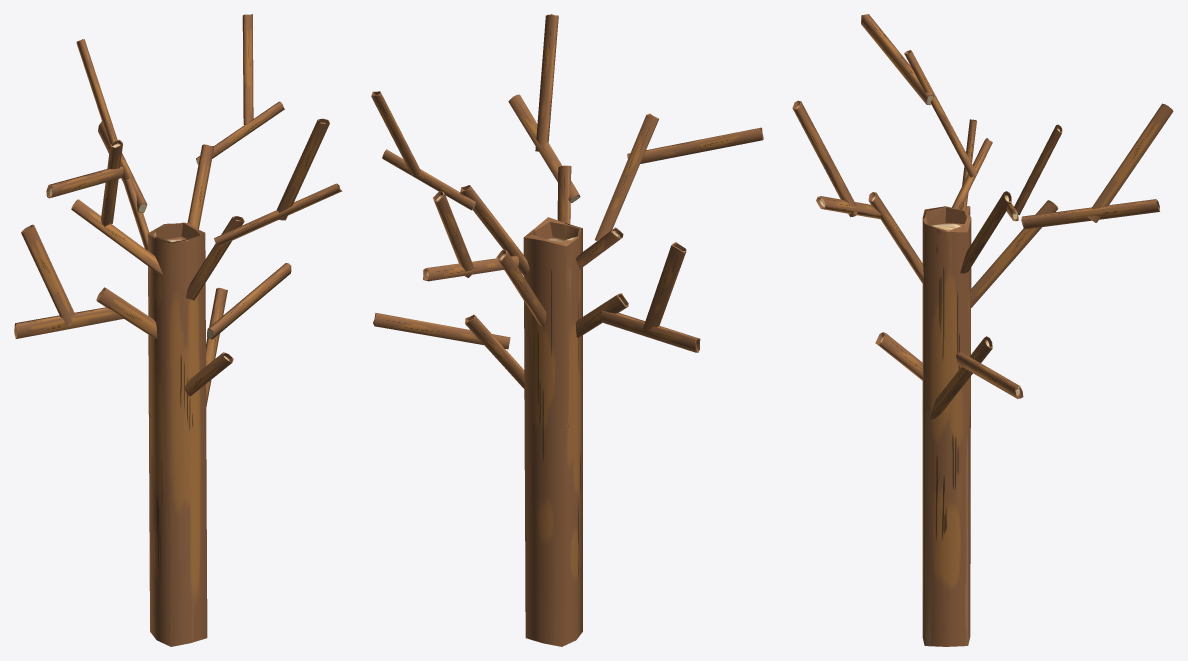
Rendered from Arvore4.fbx.
3 views of the same model, side by side, from view 1: azimuth 30°, elevation 25°; view 2: azimuth 150°, elevation 25°; view 3: azimuth 270°, elevation 25° (orthographic). The views are drawn at different scales.
Visible parts, largest first — view 1: ArvoreTronco, ArvoreTronco.005, ArvoreTronco.004, ArvoreTronco.015, ArvoreTronco.008, ArvoreTronco.014, ArvoreTronco.006, ArvoreTronco.011, ArvoreTronco.001, ArvoreTronco.007, ArvoreTronco.018, ArvoreTronco.012 (+7 smaller); view 2: ArvoreTronco, ArvoreTronco.009, ArvoreTronco.015, ArvoreTronco.013, ArvoreTronco.006, ArvoreTronco.004, ArvoreTronco.005, ArvoreTronco.007, ArvoreTronco.014, ArvoreTronco.002, ArvoreTronco.018, ArvoreTronco.016 (+6 smaller); view 3: ArvoreTronco, ArvoreTronco.017, ArvoreTronco.018, ArvoreTronco.016, ArvoreTronco.015, ArvoreTronco.013, ArvoreTronco.009, ArvoreTronco.002, ArvoreTronco.007, ArvoreTronco.012, ArvoreTronco.006, ArvoreTronco.011 (+3 smaller).
Boxes of the visible parts, bbox=[...] form: ArvoreTronco: bbox=[147, 222, 207, 646]; ArvoreTronco.005: bbox=[21, 224, 75, 327]; ArvoreTronco.004: bbox=[14, 307, 124, 338]; ArvoreTronco.015: bbox=[276, 118, 329, 220]; ArvoreTronco.008: bbox=[71, 199, 162, 275]; ArvoreTronco.014: bbox=[214, 183, 342, 246]; ArvoreTronco.006: bbox=[207, 263, 291, 339]; ArvoreTronco.011: bbox=[242, 14, 253, 124]; ArvoreTronco.001: bbox=[96, 287, 157, 338]; ArvoreTronco.007: bbox=[187, 144, 214, 229]; ArvoreTronco.018: bbox=[76, 39, 123, 160]; ArvoreTronco.012: bbox=[186, 216, 244, 300]; ArvoreTronco: bbox=[523, 217, 582, 646]; ArvoreTronco.009: bbox=[595, 113, 658, 241]; ArvoreTronco.015: bbox=[535, 14, 558, 151]; ArvoreTronco.013: bbox=[627, 127, 763, 163]; ArvoreTronco.006: bbox=[373, 313, 510, 349]; ArvoreTronco.004: bbox=[601, 310, 700, 352]; ArvoreTronco.005: bbox=[642, 242, 686, 331]; ArvoreTronco.007: bbox=[460, 185, 529, 276]; ArvoreTronco.014: bbox=[508, 94, 580, 202]; ArvoreTronco.002: bbox=[465, 314, 524, 388]; ArvoreTronco.018: bbox=[433, 191, 474, 277]; ArvoreTronco.016: bbox=[496, 250, 546, 327]; ArvoreTronco: bbox=[922, 206, 971, 646]; ArvoreTronco.017: bbox=[1021, 199, 1159, 229]; ArvoreTronco.018: bbox=[1087, 103, 1173, 222]; ArvoreTronco.016: bbox=[970, 200, 1058, 308]; ArvoreTronco.015: bbox=[792, 100, 857, 217]; ArvoreTronco.013: bbox=[861, 14, 933, 105]; ArvoreTronco.009: bbox=[904, 50, 976, 177]; ArvoreTronco.002: bbox=[930, 336, 992, 419]; ArvoreTronco.007: bbox=[960, 191, 1011, 273]; ArvoreTronco.012: bbox=[868, 192, 923, 283]; ArvoreTronco.006: bbox=[956, 352, 1023, 398]; ArvoreTronco.011: bbox=[1014, 124, 1062, 215].
Bounding box in the file's own units: 5303 × 8824 × 5320.
